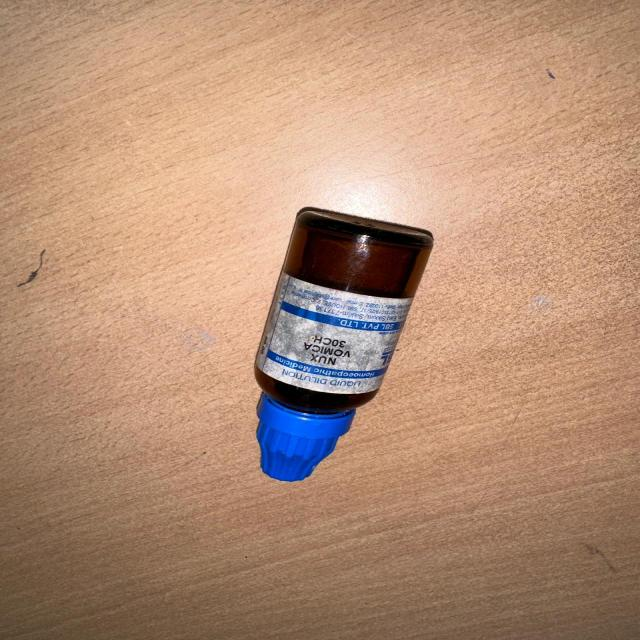medicine: (198, 197, 458, 493)
